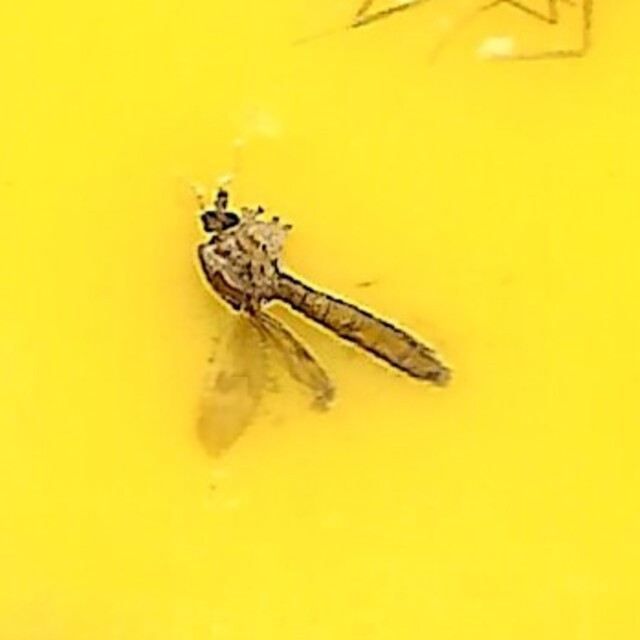Nematocera: (183, 173, 457, 467)
